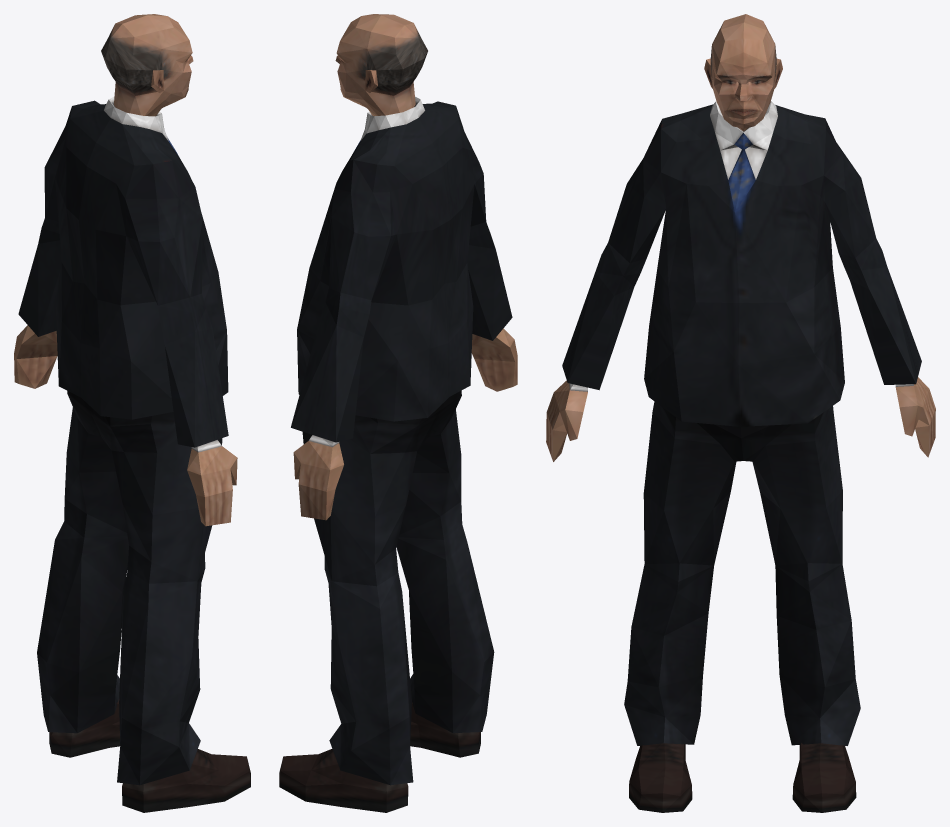
The model's file is somobu.obj.
3 views of the same model, side by side, from view 1: azimuth 30°, elevation 25°; view 2: azimuth 150°, elevation 25°; view 3: azimuth 270°, elevation 25° (orthographic).
Parts seen in each view (by area): view 1: _Pelvis; view 2: _Pelvis; view 3: _Pelvis.
Boxes of the visible parts, x1,y1,x2,y2 form: _Pelvis: (14, 14, 250, 812); _Pelvis: (279, 14, 517, 812); _Pelvis: (546, 14, 935, 812).
Bounding box in the file's own units: 0.343 × 1.86 × 0.8579.
Materials: 1 (1 with a texture image).
